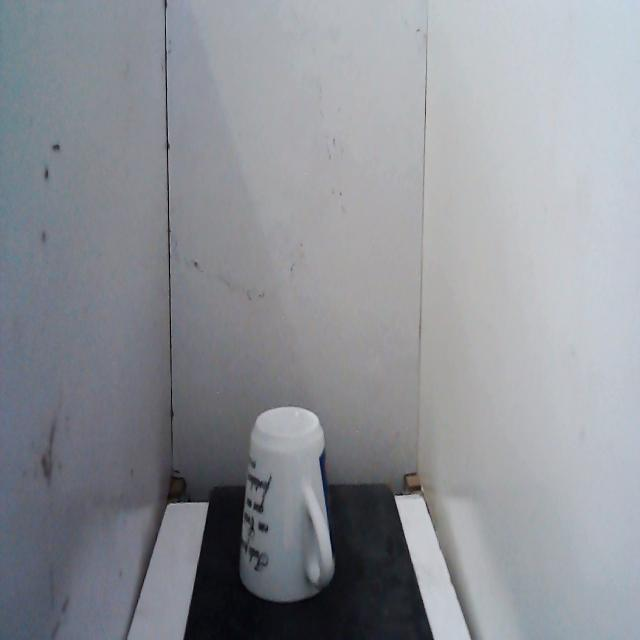vidro: (232, 397, 342, 615)
